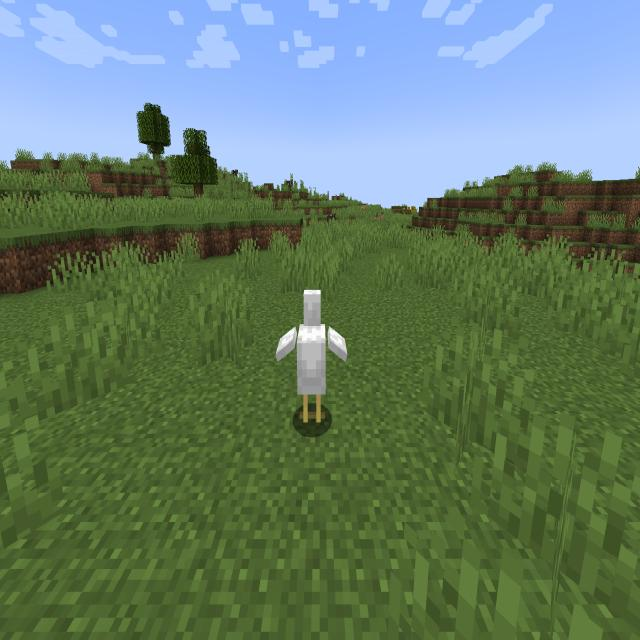chicken: (268, 280, 356, 436)
